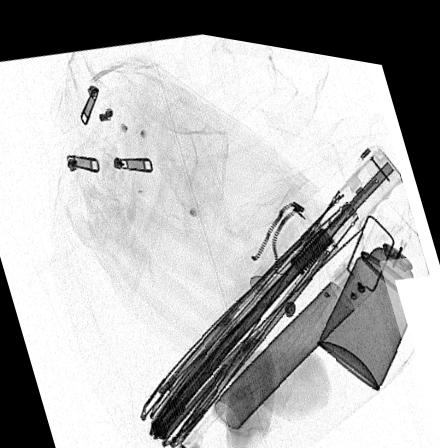Sprayer: (316, 202, 433, 377)
